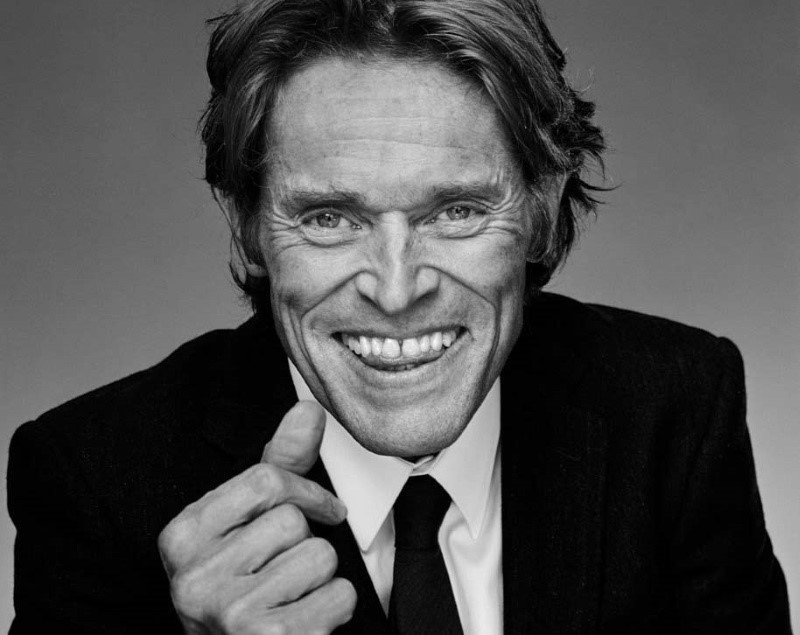face_no_mask: (200, 0, 590, 458)
